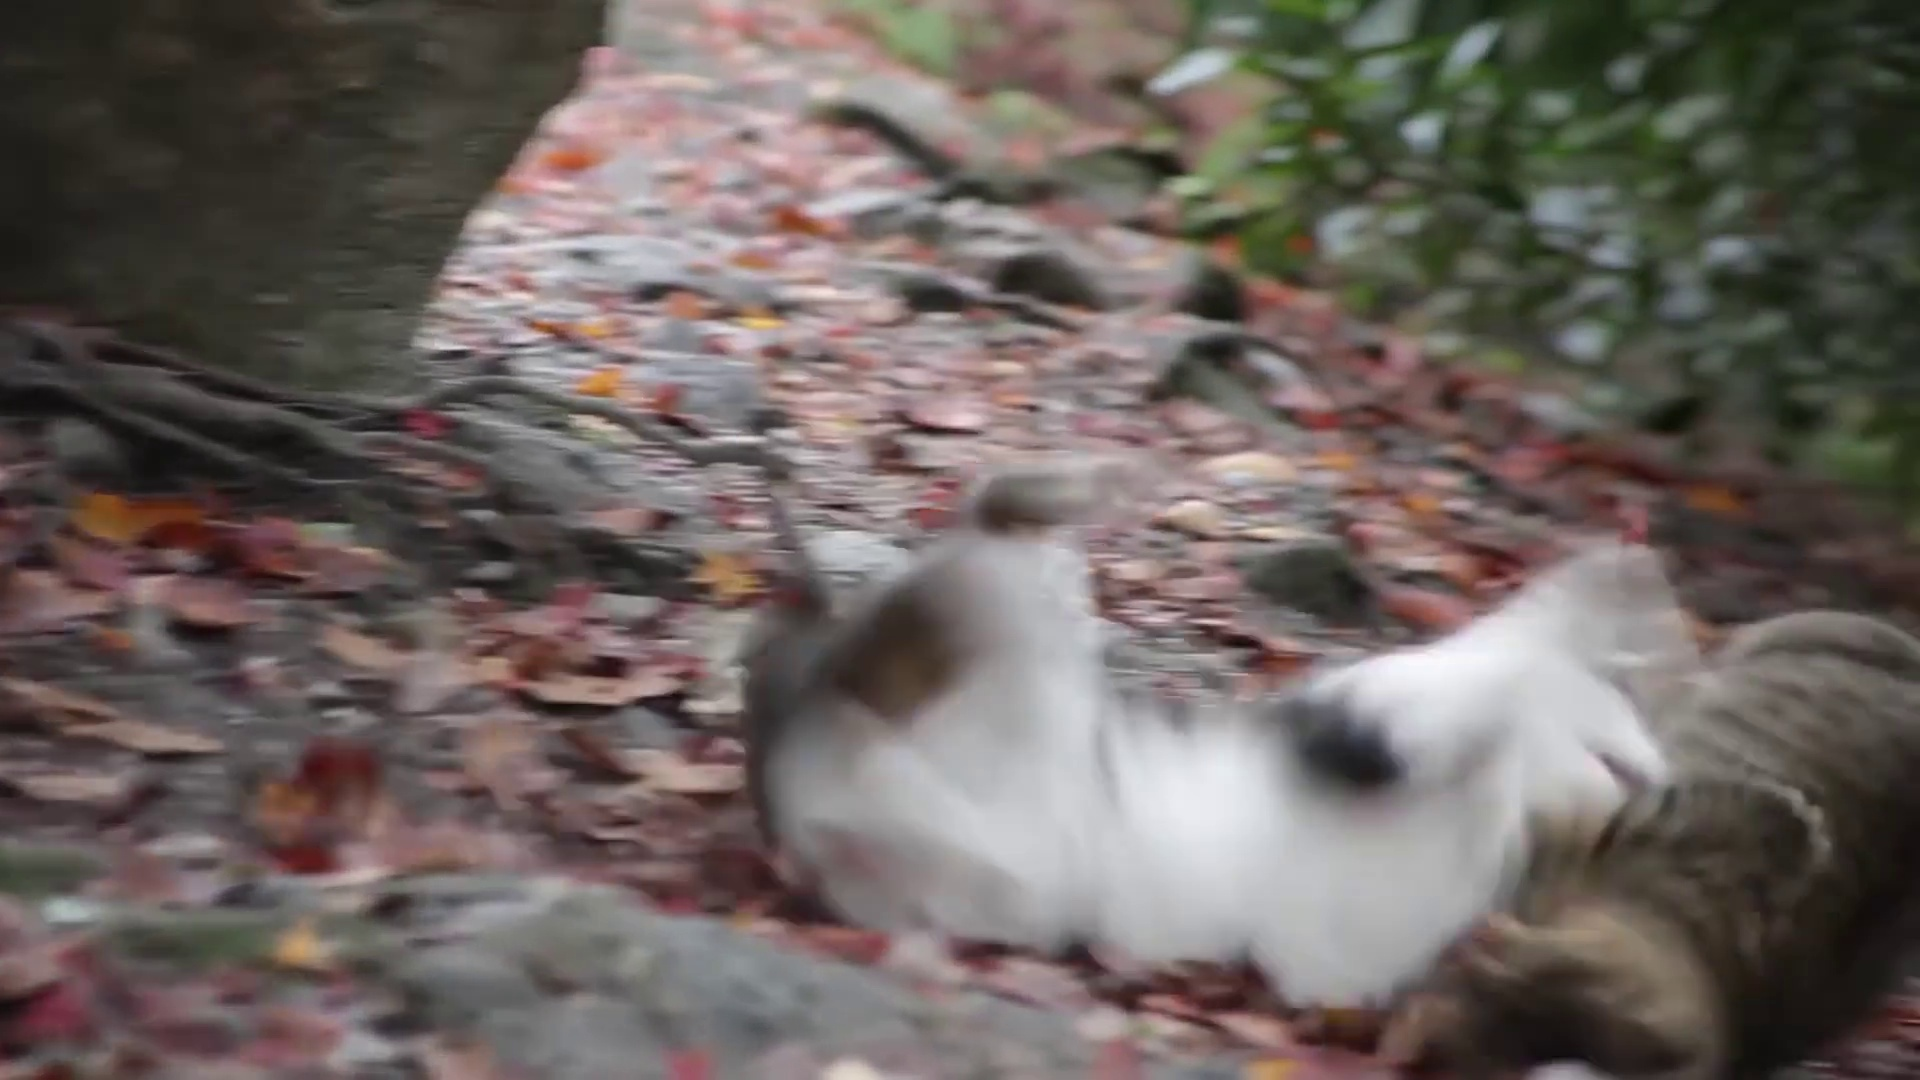black-white: (742, 538, 1667, 1011)
pure black: (1418, 609, 1917, 1080)
